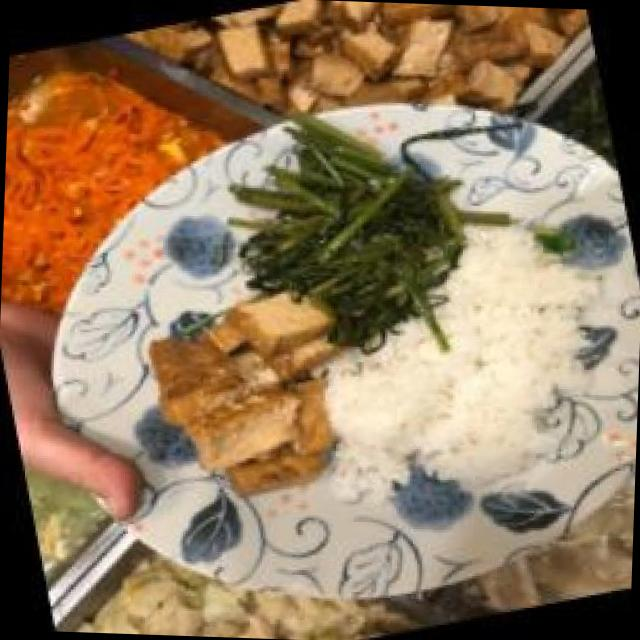carrot_eggs: (2, 92, 156, 250)
chinese_cabbage: (76, 584, 264, 638)
rice: (319, 266, 596, 490)
water_spinach: (266, 150, 444, 302)
